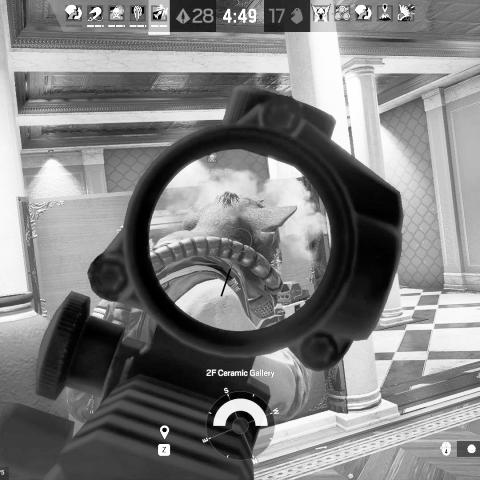Character: (60, 181, 314, 480)
Friend_label: (192, 151, 233, 177)
Head: (188, 191, 289, 271)
